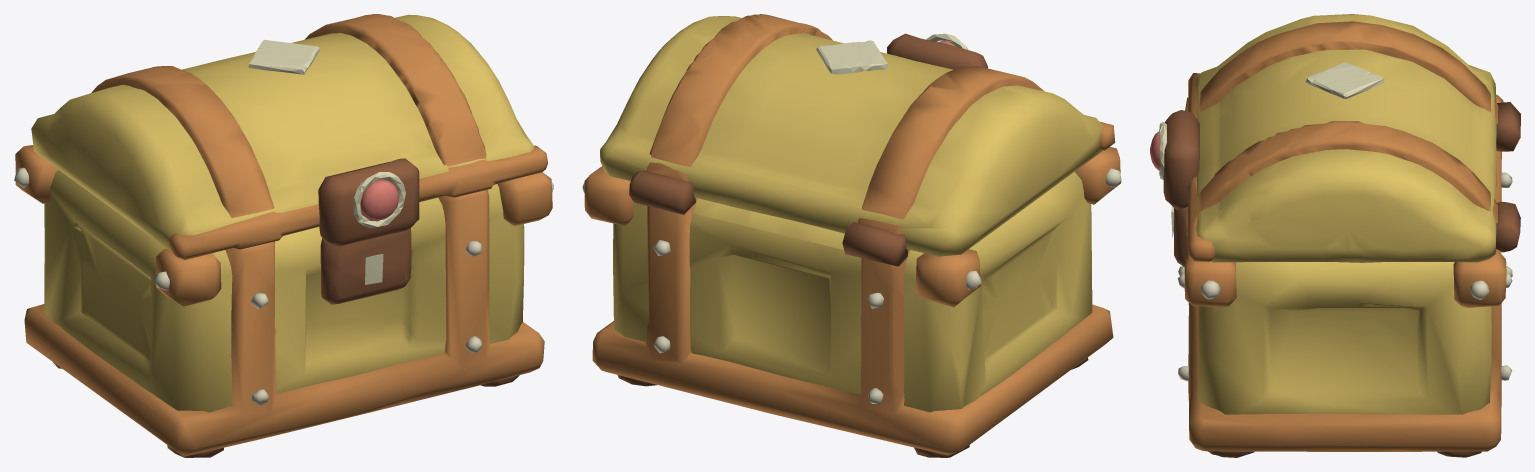
3 views of the same model, side by side, from view 1: azimuth 30°, elevation 25°; view 2: azimuth 150°, elevation 25°; view 3: azimuth 270°, elevation 25° (orthographic). The views are drawn at different scales.
Visible parts, largest first — view 1: body, lid, lid_glow; view 2: body, lid, lid_glow; view 3: lid, body, lid_glow.
Boxes of the visible parts, bbox=[...] form: body: bbox=[14, 145, 553, 457]; lid: bbox=[31, 14, 547, 259]; lid_glow: bbox=[248, 39, 405, 228]; body: bbox=[582, 147, 1121, 457]; lid: bbox=[600, 14, 1115, 266]; lid_glow: bbox=[816, 33, 968, 74]; lid: bbox=[1150, 14, 1520, 262]; body: bbox=[1174, 94, 1512, 457]; lid_glow: bbox=[1159, 62, 1384, 179].
Bounding box in the file's own units: 1.08 × 0.817 × 0.9095.
